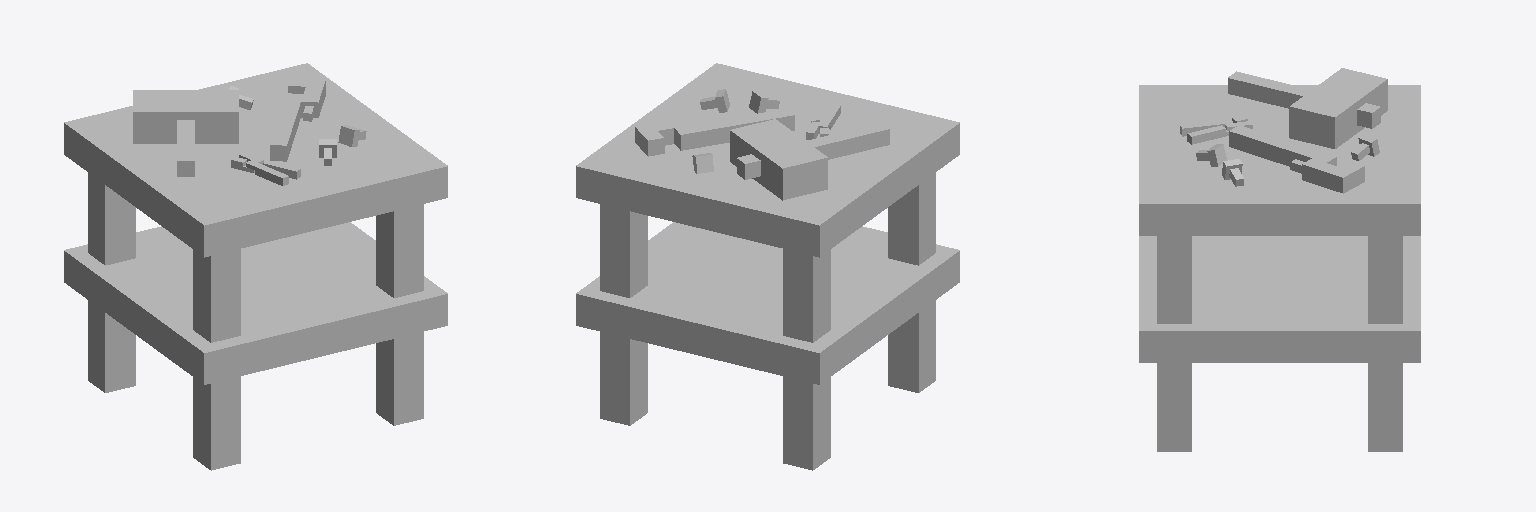
File: tool-table.obj
3 views of the same model, side by side, from view 1: azimuth 30°, elevation 25°; view 2: azimuth 150°, elevation 25°; view 3: azimuth 270°, elevation 25° (orthographic).
Visible parts, largest first — view 1: Group_021, Group_001, Group_009, Group_022, Group_002, Group_018, Group_023, Group_025, Group_019, Group_013, Group_014, Group_010 (+2 smaller); view 2: Group_021, Group_001, Group_009, Group_025, Group_019, Group_020, Group_024, Group_022, Group_002, Group_010, Group_014, Group_013; view 3: Group_021, Group_001, Group_009, Group_018, Group_020, Group_023, Group_024, Group_010, Group_013, Group_014, Group_6_001, Group_6_002.
Boxes of the visible parts, x1=… form: Group_021: x1=64, y1=63, x2=447, y2=257; Group_001: x1=64, y1=222, x2=447, y2=384; Group_009: x1=133, y1=90, x2=238, y2=143; Group_022: x1=193, y1=249, x2=240, y2=342; Group_002: x1=193, y1=376, x2=240, y2=470; Group_018: x1=376, y1=332, x2=423, y2=425; Group_023: x1=376, y1=204, x2=423, y2=297; Group_025: x1=88, y1=173, x2=135, y2=265; Group_019: x1=88, y1=300, x2=135, y2=392; Group_013: x1=270, y1=101, x2=300, y2=161; Group_014: x1=284, y1=78, x2=325, y2=117; Group_010: x1=177, y1=120, x2=194, y2=176; Group_021: x1=576, y1=63, x2=959, y2=257; Group_001: x1=576, y1=222, x2=959, y2=384; Group_009: x1=730, y1=119, x2=827, y2=200; Group_025: x1=783, y1=249, x2=830, y2=342; Group_019: x1=783, y1=376, x2=830, y2=470; Group_020: x1=600, y1=332, x2=647, y2=425; Group_024: x1=600, y1=204, x2=647, y2=297; Group_022: x1=888, y1=173, x2=935, y2=265; Group_002: x1=888, y1=300, x2=935, y2=392; Group_010: x1=737, y1=123, x2=889, y2=179; Group_014: x1=635, y1=118, x2=696, y2=156; Group_013: x1=691, y1=108, x2=794, y2=147; Group_021: x1=1139, y1=85, x2=1420, y2=235; Group_001: x1=1139, y1=236, x2=1420, y2=362; Group_009: x1=1289, y1=68, x2=1387, y2=148; Group_018: x1=1157, y1=363, x2=1191, y2=451; Group_020: x1=1368, y1=363, x2=1402, y2=451; Group_023: x1=1157, y1=236, x2=1191, y2=323; Group_024: x1=1368, y1=236, x2=1402, y2=323; Group_010: x1=1228, y1=71, x2=1380, y2=128; Group_013: x1=1229, y1=125, x2=1322, y2=166; Group_014: x1=1302, y1=153, x2=1364, y2=193; Group_6_001: x1=1187, y1=116, x2=1247, y2=144; Group_6_002: x1=1180, y1=119, x2=1252, y2=136.
Size of the model in its own units: 1 by 1.12 by 1.